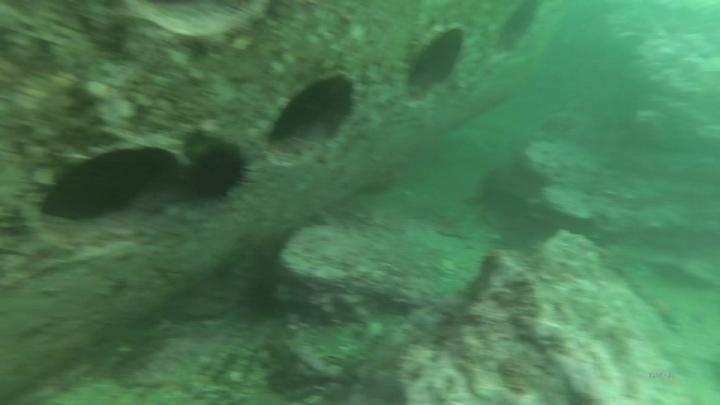echinus: (175, 136, 254, 208)
starfish: (646, 292, 685, 333)
